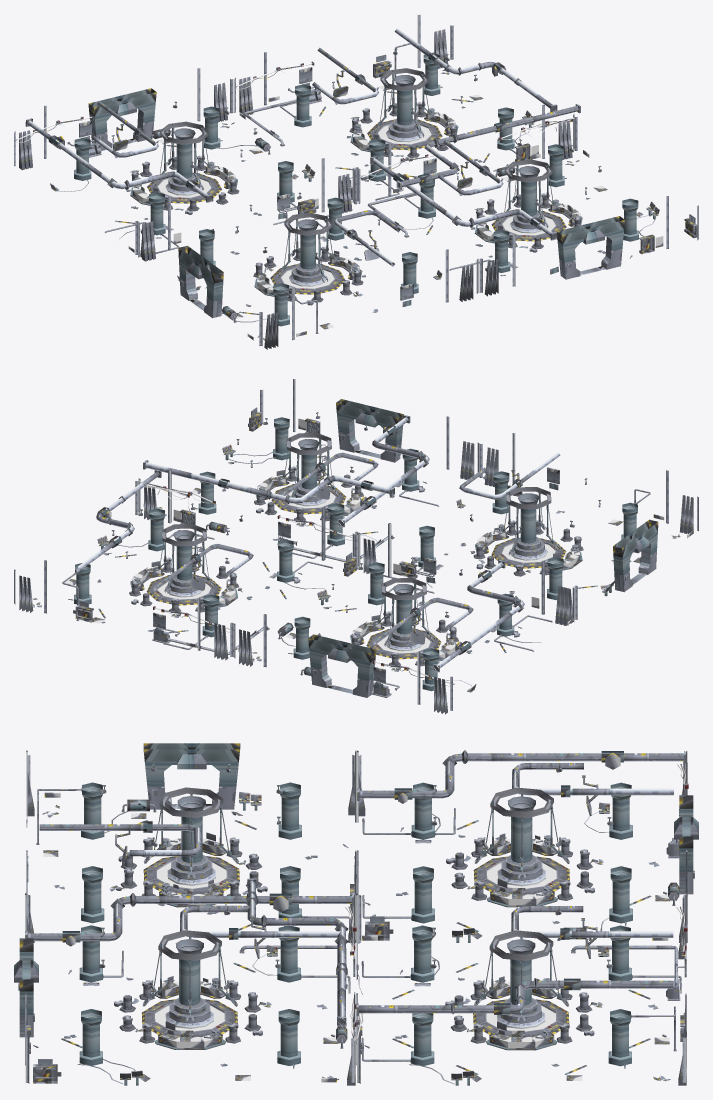
Rendered from Combined_Mesh_root_scene__9_f65a131e__ZombiesII_laboratory_07_d_a6872bb1_c1f257_part001.obj.
3 views of the same model, one above another, from view 1: azimuth 30°, elevation 25°; view 2: azimuth 150°, elevation 25°; view 3: azimuth 270°, elevation 25° (orthographic). The views are drawn at different scales.
Size of the model in its own units: 83.04 by 10.34 by 83.14.
538 materials, 538 textured.
